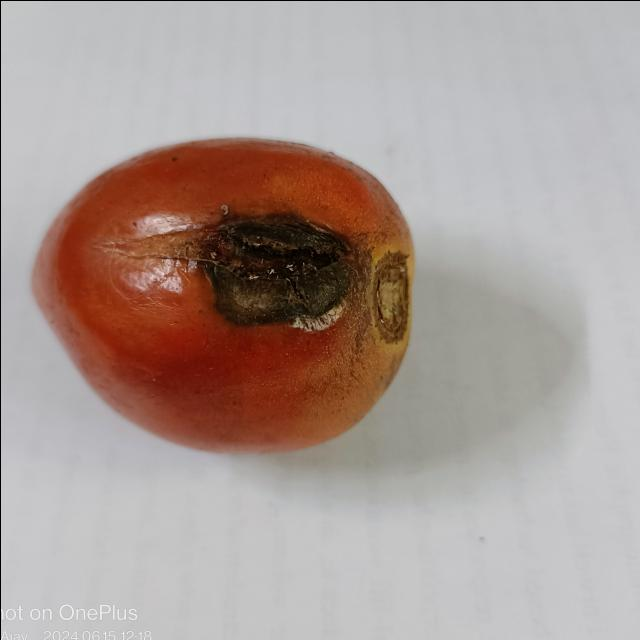Anthrocnose: (200, 209, 356, 329)
